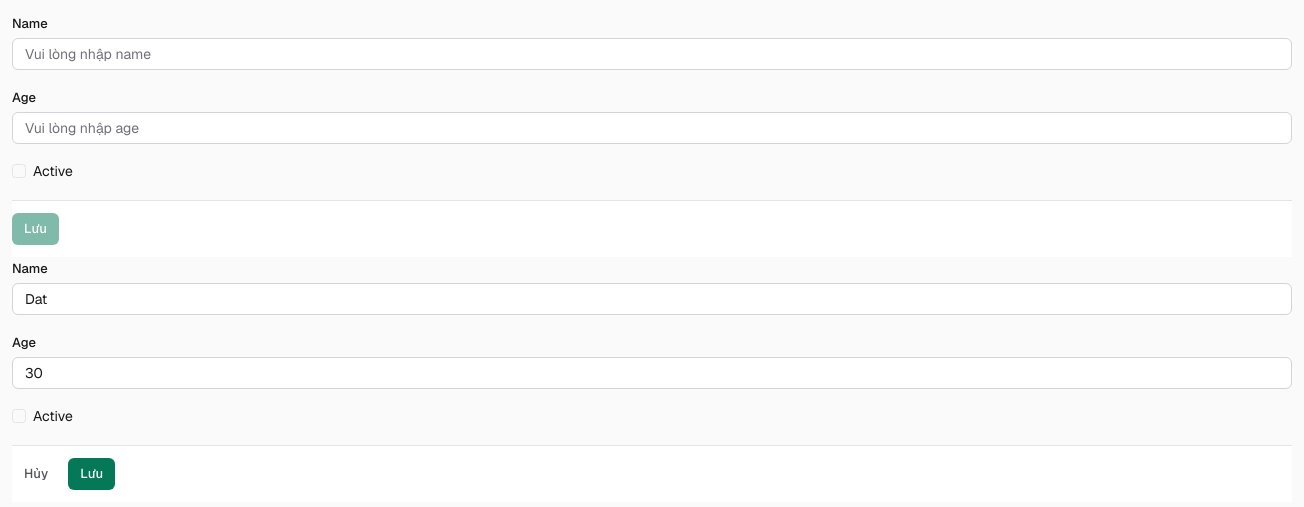
VeeForm › "Hủy" only shows when cancelable, and puts edited fields back to the loaded document
The image size is (1304, 507).
Expected: the text "Hủy" is not shown
Replace the text in the 3rd field with "changed". click: [652, 299]
box: left=12, top=283, right=1292, bottom=315
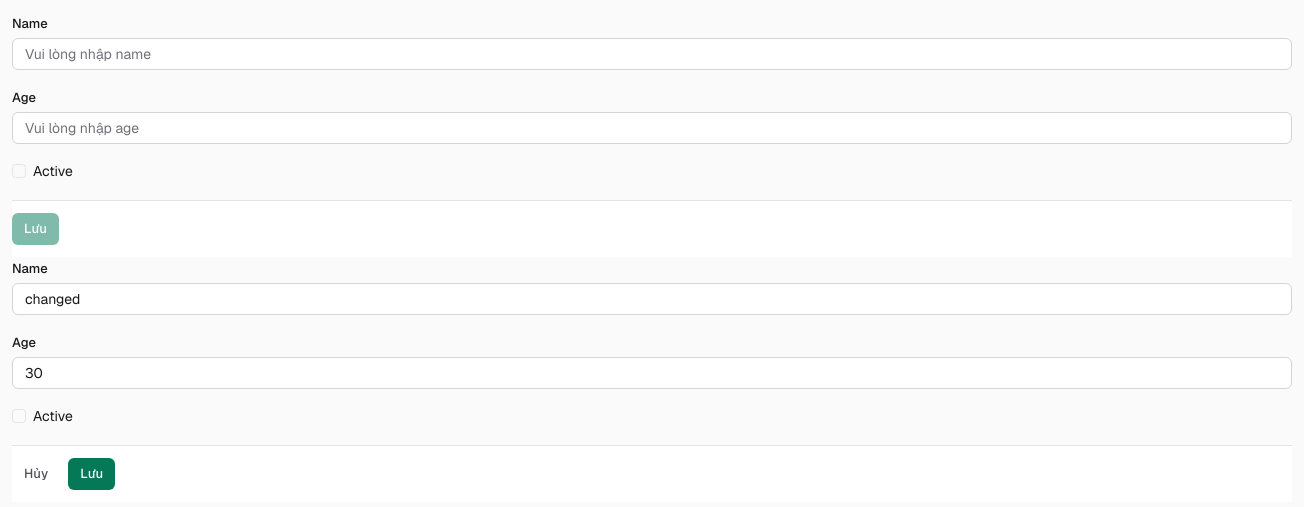
Click the button "Hủy". click: [36, 474]
box: left=12, top=458, right=60, bottom=490
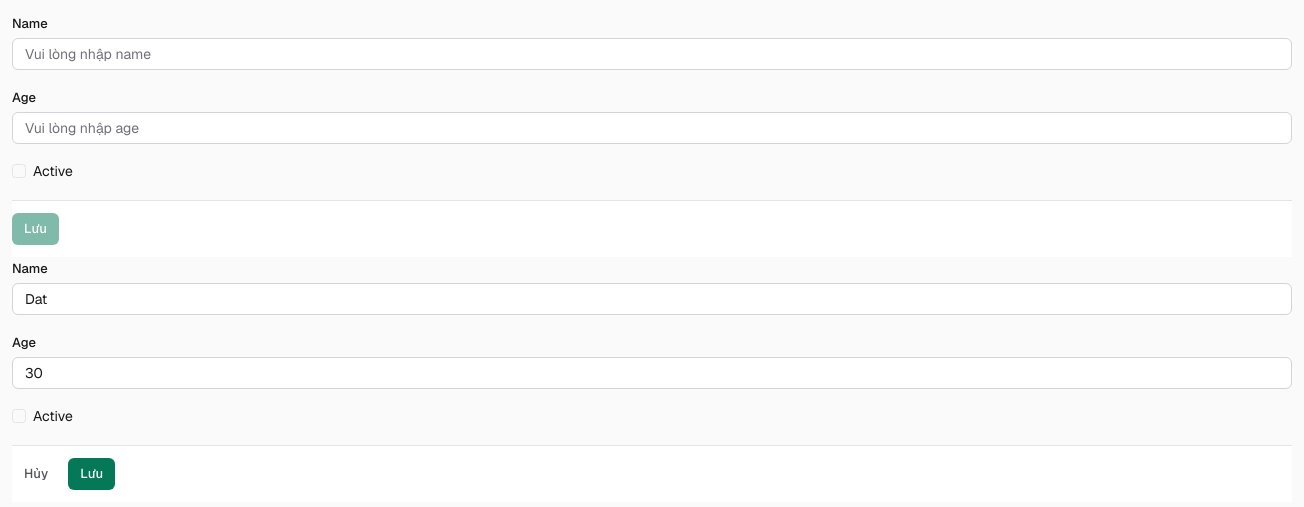
Result: the 3rd field holds "Dat" at left=12, top=283, right=1292, bottom=315
